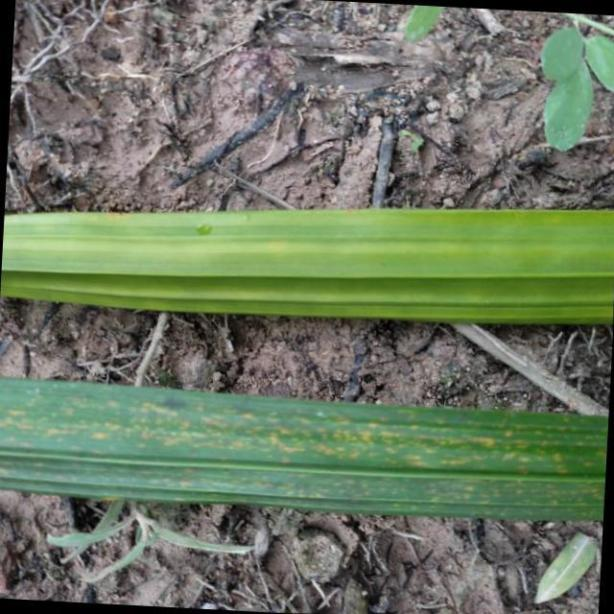nitrogen: (3, 375, 614, 516), (6, 206, 614, 325)
